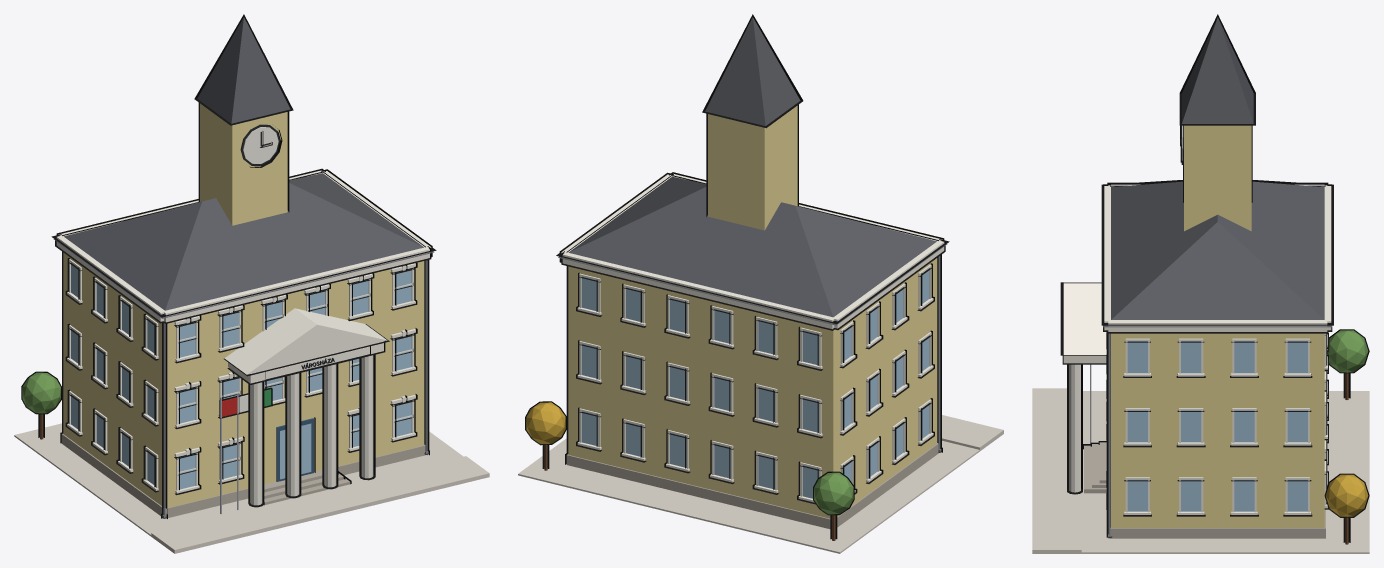
The model's file is Kamu_belediye_1.fbx.
3 views of the same model, side by side, from view 1: azimuth 30°, elevation 25°; view 2: azimuth 150°, elevation 25°; view 3: azimuth 270°, elevation 25° (orthographic). The views are drawn at different scales.
Visible parts, largest first — view 1: Kamu_belediye_1; view 2: Kamu_belediye_1; view 3: Kamu_belediye_1.
Boxes of the visible parts, <box> form: Kamu_belediye_1: <box>14,14,489,553</box>; Kamu_belediye_1: <box>518,14,1003,553</box>; Kamu_belediye_1: <box>1032,14,1369,553</box>.
Size of the model in its own units: 17.21 by 22.54 by 15.
